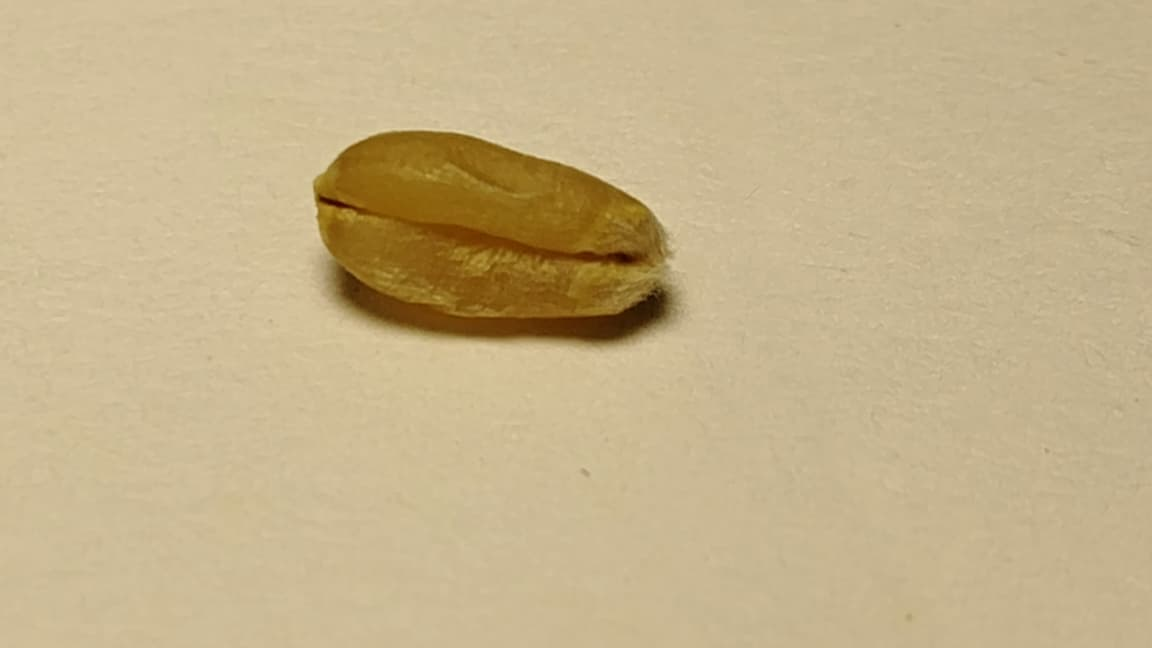healthy: (315, 131, 667, 317)
